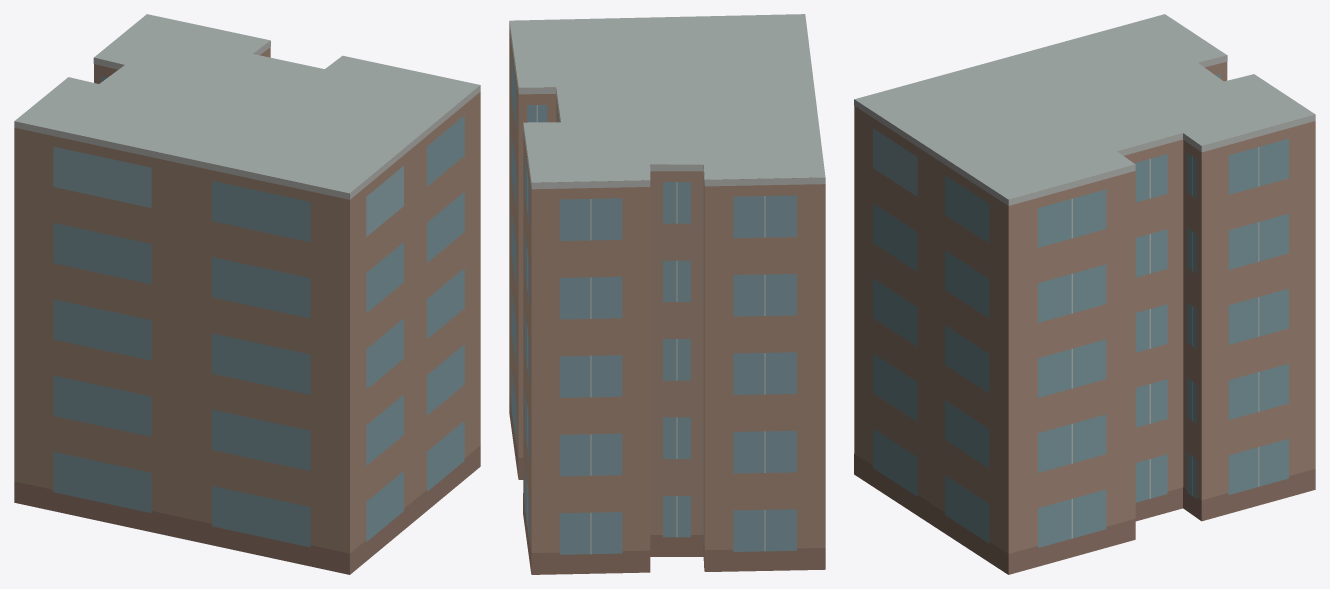
Rendered from survey-upis-32720516.glb.
3 views of the same model, side by side, from view 1: azimuth 30°, elevation 25°; view 2: azimuth 150°, elevation 25°; view 3: azimuth 270°, elevation 25° (orthographic). The views are drawn at different scales.
Visible parts, largest first — view 1: survey-upis-32720516.tmp; view 2: survey-upis-32720516.tmp; view 3: survey-upis-32720516.tmp.
Part boxes in pixels (box(x1,y1,x2,y2)): survey-upis-32720516.tmp: box(14, 14, 480, 574); survey-upis-32720516.tmp: box(509, 14, 825, 574); survey-upis-32720516.tmp: box(854, 14, 1315, 574).
Bounding box in the file's own units: 15.35 × 14.45 × 16.12.
